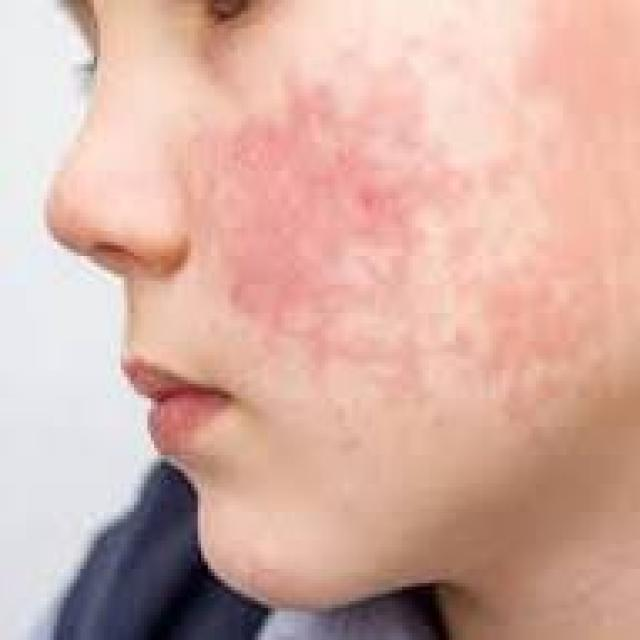Eczema: (196, 108, 482, 337)
